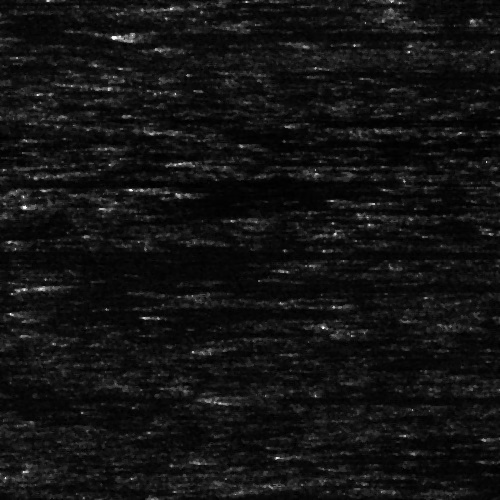object: (192, 475, 389, 494), (81, 27, 174, 40), (195, 389, 288, 400), (162, 344, 267, 353), (146, 156, 239, 165), (151, 184, 214, 195), (130, 492, 223, 499), (135, 44, 208, 49), (243, 452, 316, 457), (432, 486, 495, 491), (0, 174, 17, 187), (58, 282, 79, 287), (347, 0, 440, 1)
shadow: (0, 174, 328, 187), (291, 475, 500, 494), (128, 27, 426, 40), (242, 389, 500, 400), (183, 184, 417, 195), (177, 492, 401, 499), (193, 156, 350, 165), (215, 344, 370, 353), (280, 452, 500, 457), (172, 44, 247, 49), (69, 282, 144, 287), (463, 486, 500, 491), (0, 0, 130, 1), (394, 0, 500, 1)
